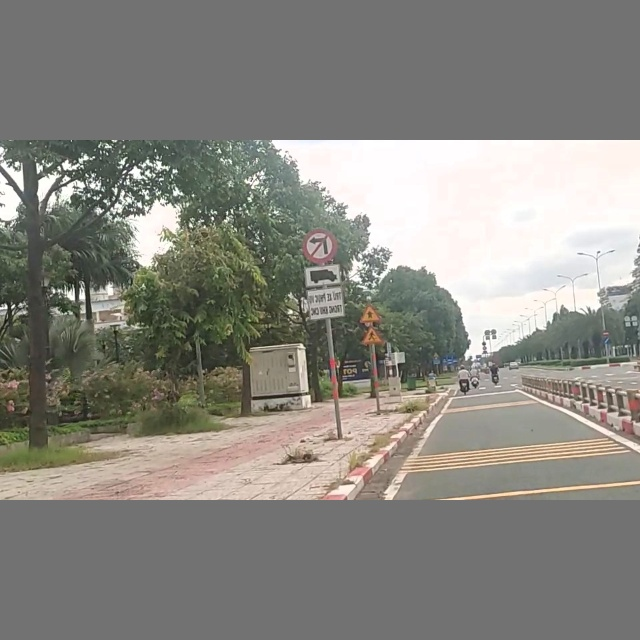P.123b: (301, 228, 339, 263)
S.505a*Xe tai: (305, 263, 345, 318)
W.207: (359, 303, 384, 322)
W.224: (361, 325, 383, 344)
